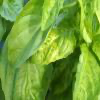Tomato leaf: (8, 2, 50, 69), (30, 13, 80, 65)
